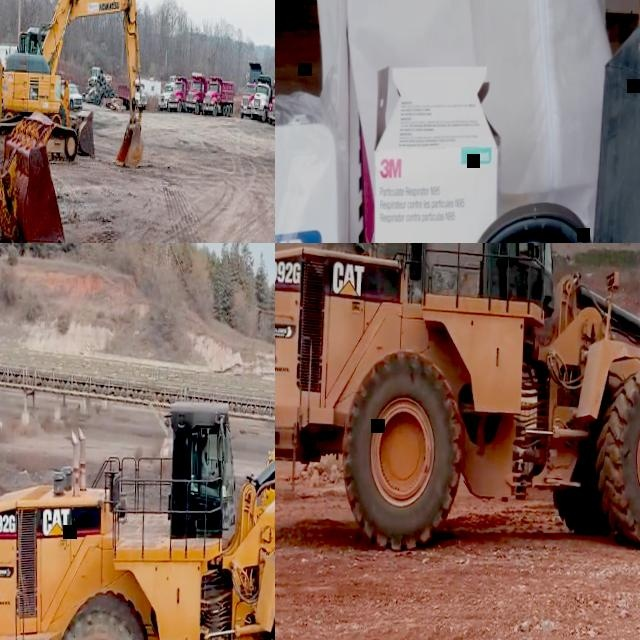Hardhat: (65, 81, 68, 83)
NO-Hardhat: (201, 437, 207, 445)
NO-Mask: (204, 447, 209, 454)
NO-Safety Vest: (197, 452, 207, 476)
Person: (196, 436, 221, 488), (63, 80, 70, 117)
Safety Vest: (65, 87, 69, 100)
machinery: (275, 243, 640, 565), (0, 295, 275, 640), (0, 0, 150, 167), (0, 0, 91, 243), (239, 60, 264, 120), (203, 74, 234, 117), (250, 73, 274, 123), (116, 79, 148, 112), (186, 70, 210, 114), (168, 76, 192, 113), (157, 74, 176, 110), (87, 66, 112, 92), (267, 79, 275, 123)
vehicle: (58, 78, 82, 110)
